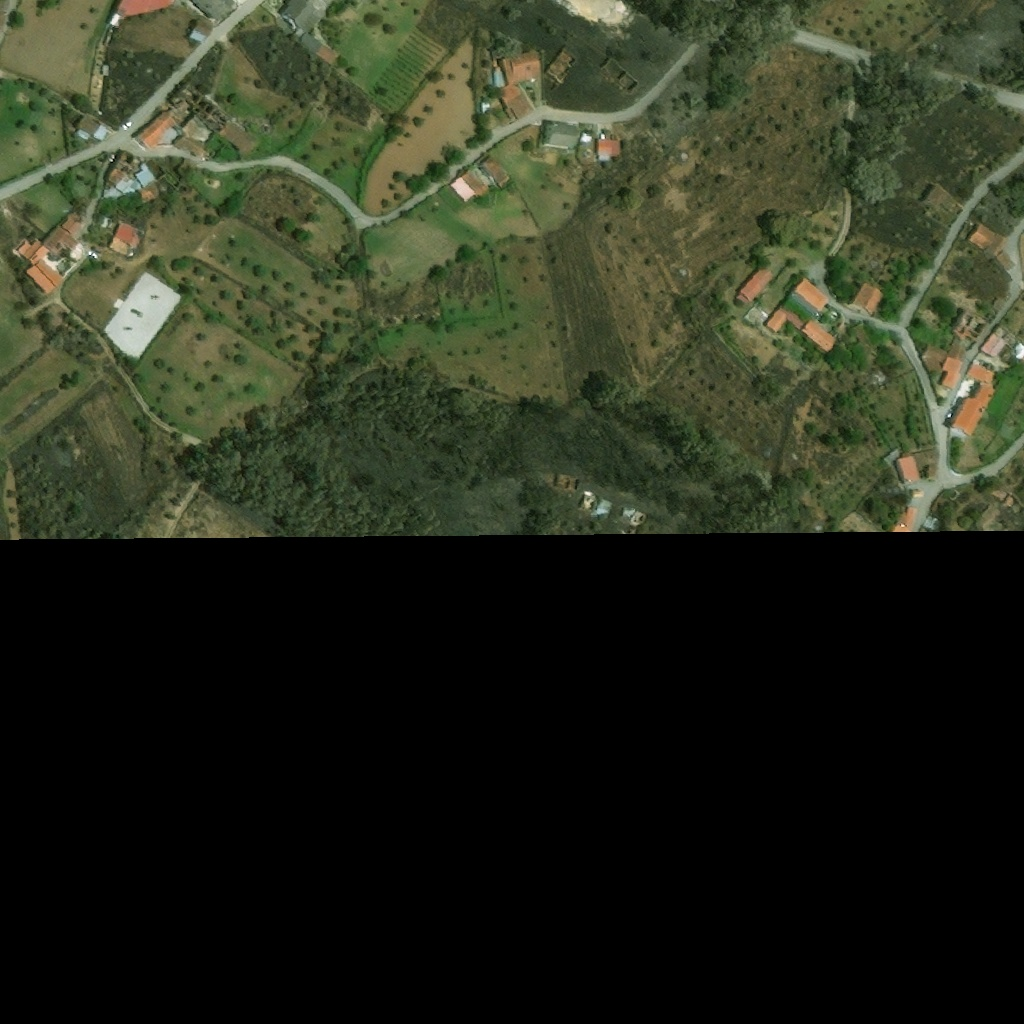0 no-damage: (945, 361, 999, 440), (15, 239, 64, 296), (490, 47, 543, 93), (135, 109, 179, 152), (102, 0, 169, 28), (920, 342, 969, 377), (789, 277, 831, 317), (735, 266, 775, 307), (292, 28, 337, 63), (799, 319, 839, 356), (921, 184, 964, 218), (281, 0, 324, 33), (765, 301, 808, 334), (499, 84, 535, 123), (541, 122, 592, 149), (109, 221, 146, 258), (477, 154, 515, 190), (967, 221, 1005, 257), (850, 280, 886, 318), (979, 326, 1018, 360), (42, 224, 81, 255), (449, 169, 483, 203), (850, 318, 882, 354), (190, 0, 237, 22), (103, 174, 144, 198), (894, 449, 920, 484), (940, 357, 964, 391), (61, 209, 89, 237), (915, 447, 943, 470), (133, 161, 157, 187), (189, 20, 213, 44), (75, 113, 100, 136), (595, 139, 621, 161), (137, 181, 160, 204), (895, 503, 920, 523), (177, 157, 199, 178), (995, 251, 1015, 271), (92, 123, 110, 142), (990, 296, 1007, 314), (927, 465, 942, 480), (924, 512, 941, 523), (76, 129, 90, 141), (935, 495, 949, 507), (481, 100, 491, 114), (911, 489, 925, 498), (101, 65, 109, 76)
1 minor-damage: (972, 503, 1001, 523)
2 major-damage: (105, 148, 141, 186), (993, 483, 1016, 507)
3 destroyed: (161, 79, 260, 159), (952, 307, 992, 341), (542, 47, 578, 84), (578, 489, 611, 518), (620, 506, 647, 525), (47, 304, 62, 326)
4 un-classified: (1010, 343, 1023, 361), (0, 11, 6, 26), (0, 0, 10, 8)
